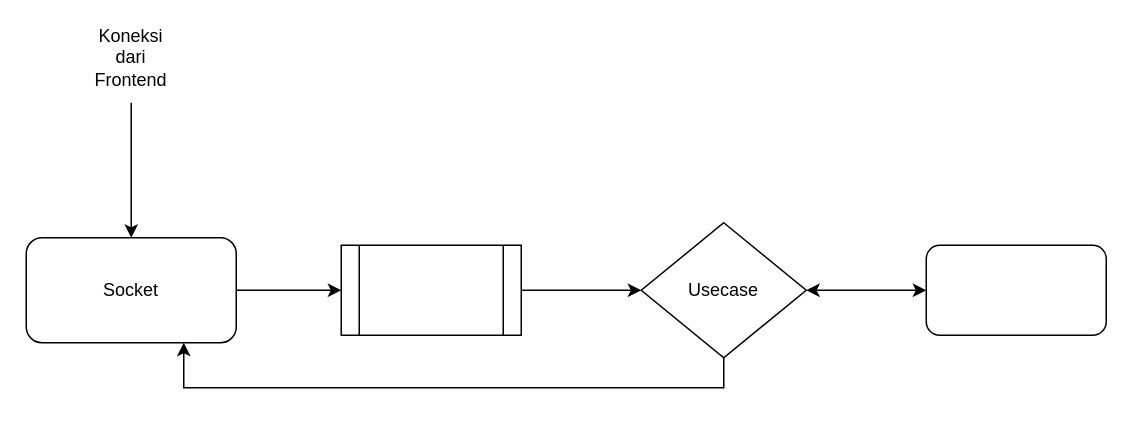
This 1133x426 diagram has some shape labels left out. The box of each missing label's shape, as (x1, y1, x2, y2) in pixels:
Algoritma String Matching: (340, 244, 521, 335)
Node-Postgres: (925, 244, 1106, 335)
